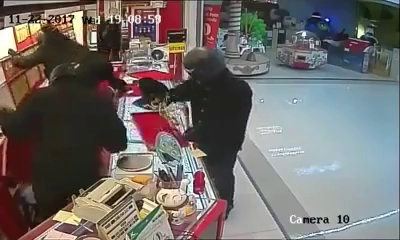helmet: (182, 45, 227, 85)
